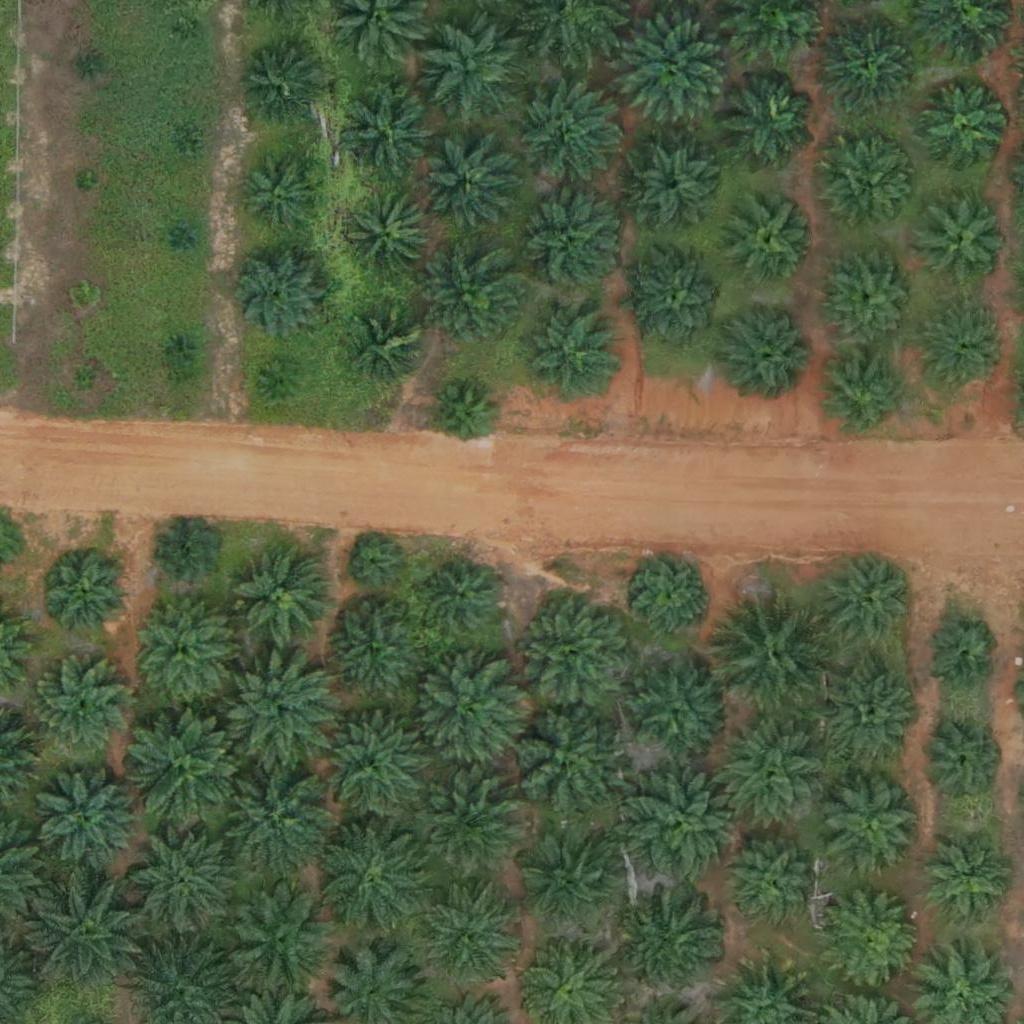Kelapa_Sawit: (24, 873, 149, 999), (125, 704, 250, 830), (208, 753, 333, 879), (313, 815, 438, 941), (513, 588, 638, 714), (501, 699, 626, 825), (621, 763, 746, 889), (712, 589, 837, 715), (708, 712, 833, 838), (309, 707, 434, 832), (615, 20, 728, 134), (222, 653, 335, 766), (223, 885, 336, 998), (222, 238, 334, 351), (33, 765, 145, 878), (124, 822, 236, 935), (411, 656, 523, 769), (412, 768, 524, 881), (820, 14, 920, 115), (419, 19, 519, 120), (336, 80, 436, 181), (423, 247, 523, 348), (517, 192, 617, 293), (522, 302, 622, 403), (29, 658, 129, 759), (133, 599, 233, 700), (233, 547, 333, 648), (322, 601, 422, 702), (521, 835, 621, 936), (629, 891, 729, 992), (717, 70, 817, 170), (517, 84, 617, 184), (628, 251, 728, 351), (720, 302, 820, 402), (822, 248, 922, 348), (627, 660, 727, 760), (817, 552, 917, 652), (821, 668, 921, 768), (821, 775, 921, 875), (823, 892, 923, 992), (240, 149, 328, 238), (919, 85, 1007, 173), (625, 143, 713, 231), (237, 41, 325, 129), (346, 193, 434, 281), (919, 198, 1007, 286), (921, 304, 1009, 392), (43, 552, 131, 640), (424, 891, 512, 979), (923, 838, 1011, 926), (918, 717, 1005, 805), (825, 144, 912, 232), (426, 145, 513, 233), (728, 194, 815, 282), (822, 351, 909, 439), (729, 842, 816, 930), (634, 557, 709, 633), (922, 617, 997, 693), (353, 311, 428, 386), (425, 560, 500, 635), (432, 384, 495, 447), (155, 522, 218, 585), (350, 539, 400, 589), (262, 360, 300, 398), (178, 20, 203, 45), (172, 136, 197, 161), (78, 53, 103, 78), (74, 171, 99, 196), (70, 283, 95, 308), (73, 367, 98, 392), (173, 225, 198, 250), (166, 335, 191, 360)
